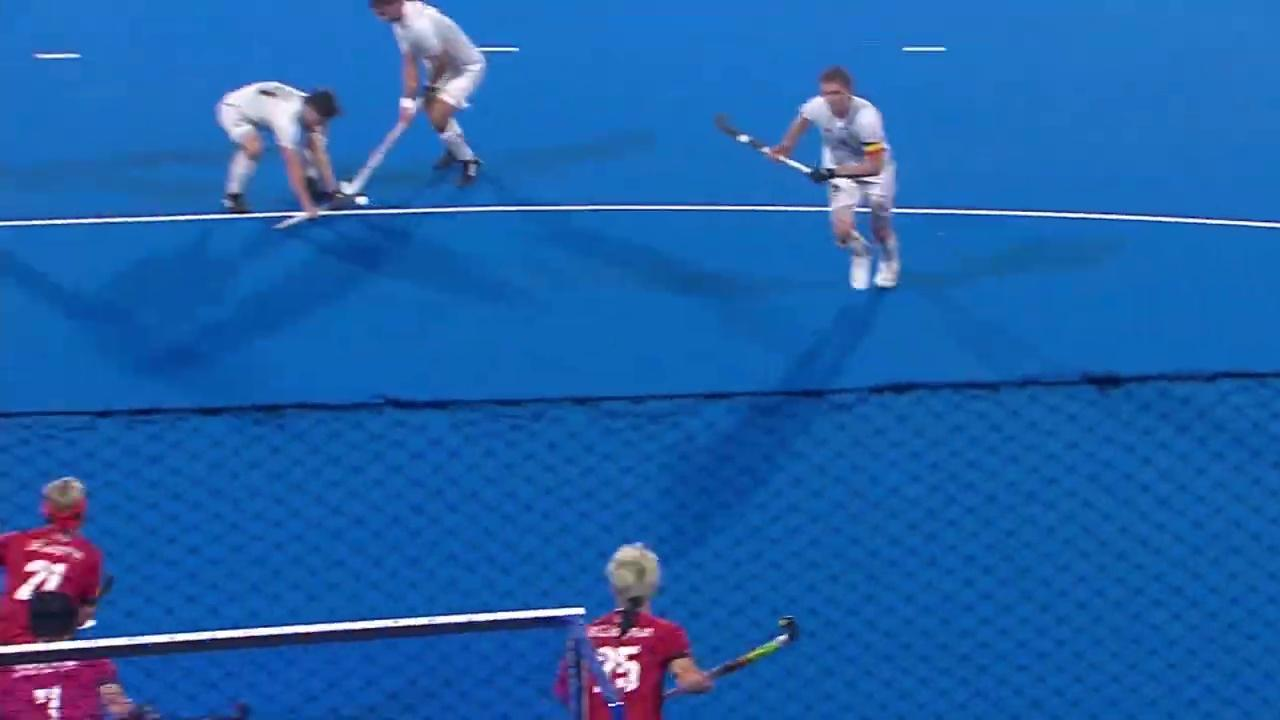ball: (339, 184, 384, 224)
